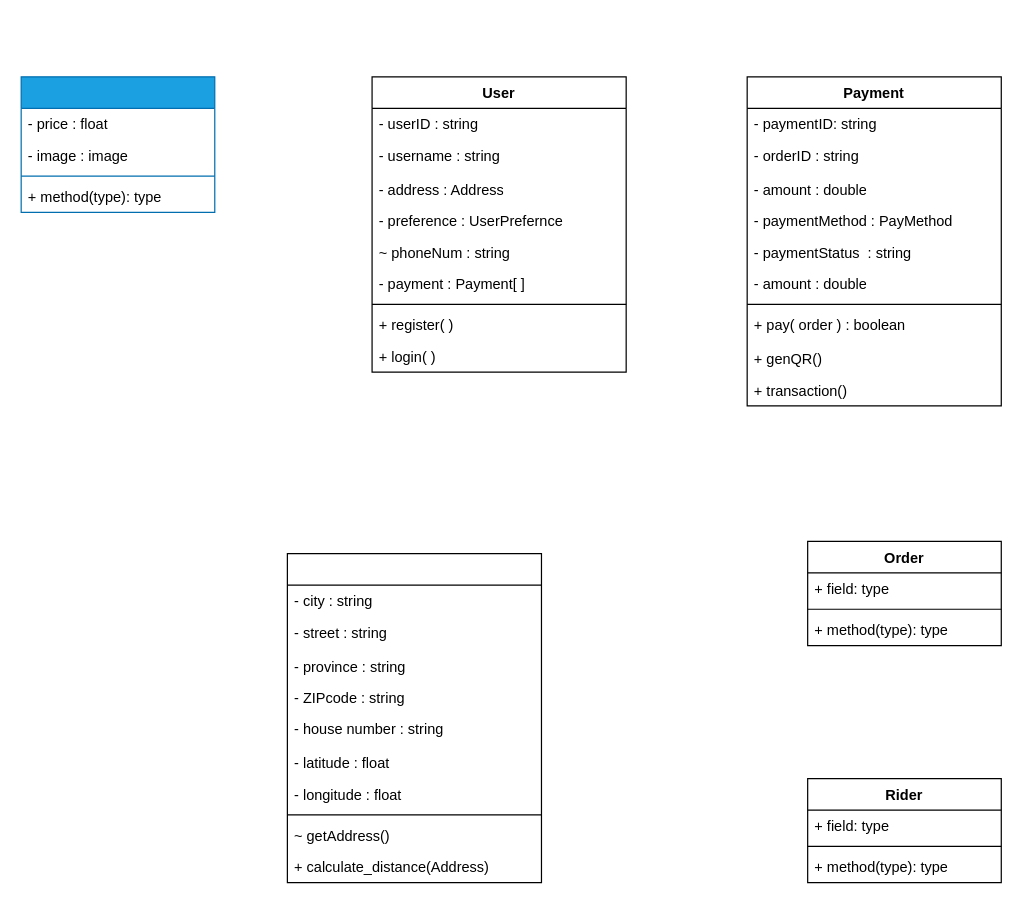
The diagram is 1022 pixels wide and 906 high, and some of its shapes have lost their labels. Each missing label, with the box of its shape:
Adress: (286, 552, 541, 883)
Food: (20, 76, 215, 212)
